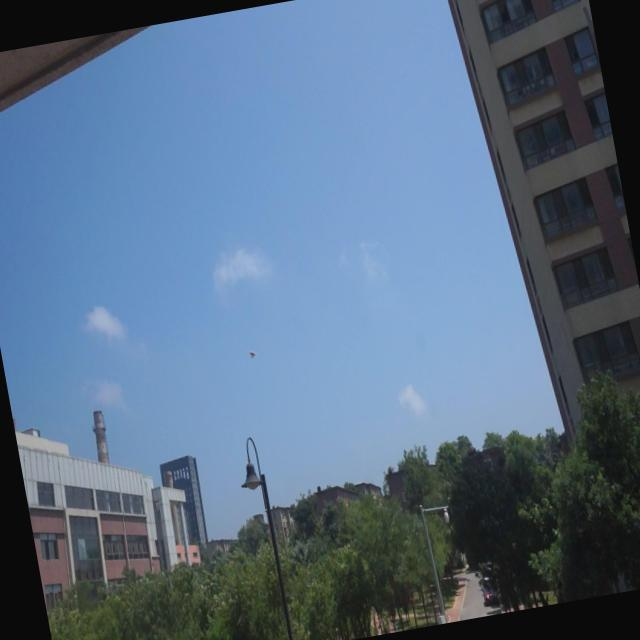drone: (246, 347, 260, 362)
